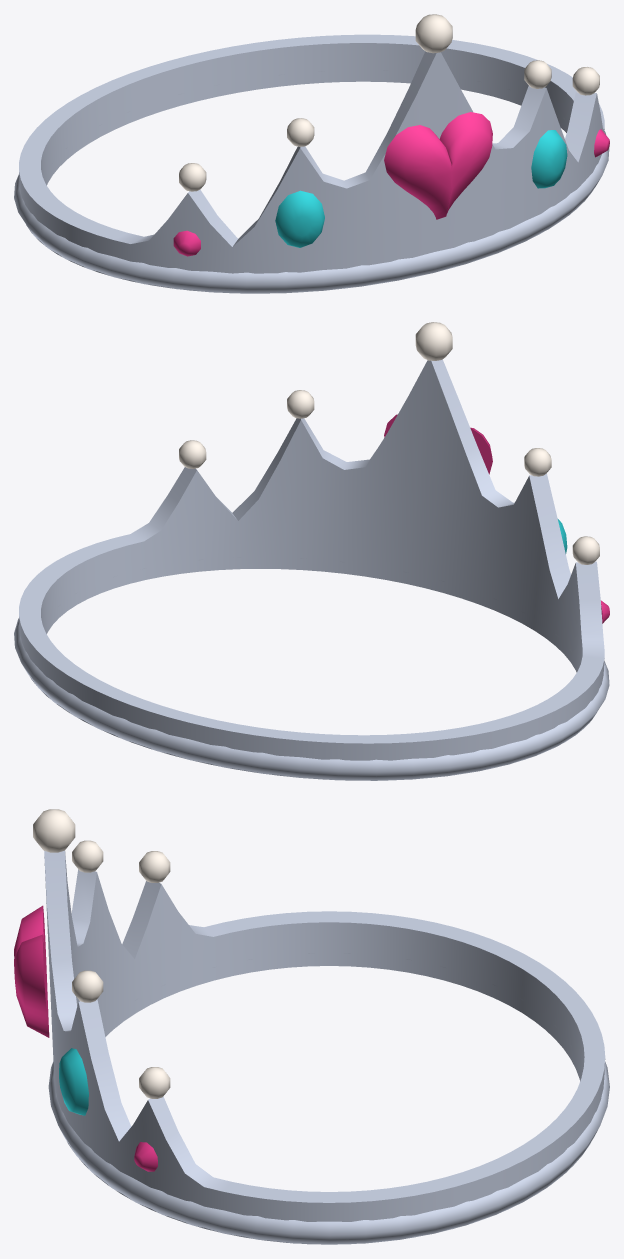
File: tiara.glb
3 views of the same model, one above another, from view 1: azimuth 30°, elevation 25°; view 2: azimuth 150°, elevation 25°; view 3: azimuth 270°, elevation 25° (orthographic). The views are drawn at different scales.
Visible parts, largest first — view 1: tiara; view 2: tiara; view 3: tiara.
Part boxes in pixels (x1,y1,x2,y2): tiara: (14,14,609,293); tiara: (14,322,609,780); tiara: (14,809,609,1244).
Bounding box in the file's own units: 0.596 × 0.2711 × 0.5061.
